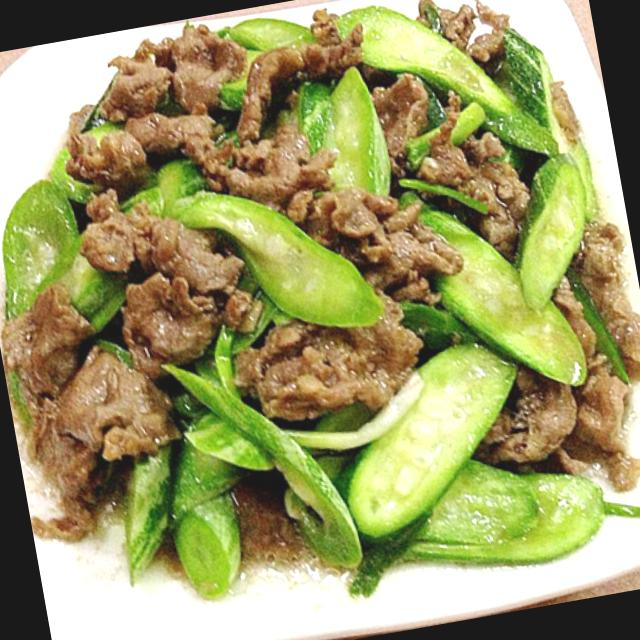bo xao: (205, 127, 462, 420), (82, 199, 252, 376), (2, 284, 97, 536), (478, 350, 640, 489), (57, 347, 180, 460), (449, 132, 530, 254), (125, 113, 213, 162)
dua leo: (126, 330, 640, 596), (338, 6, 597, 218), (426, 154, 587, 384), (175, 191, 380, 325), (3, 176, 93, 314), (295, 66, 391, 195), (121, 159, 205, 217), (64, 254, 127, 330), (224, 20, 310, 50)
